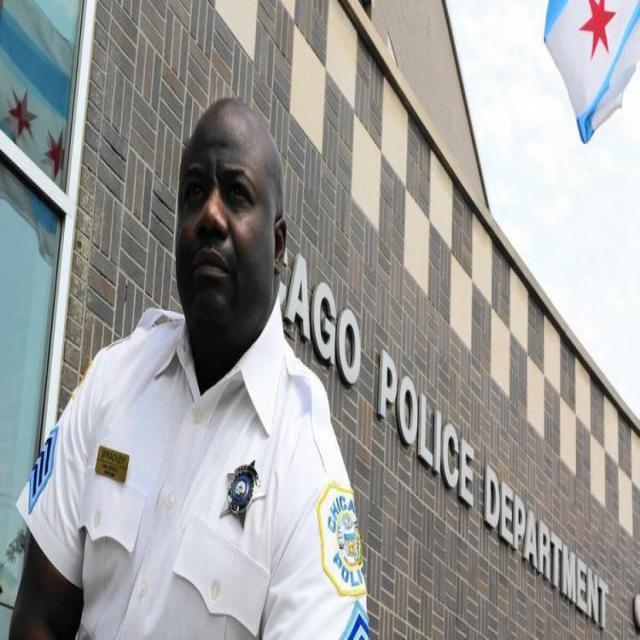police: (16, 98, 368, 640)
